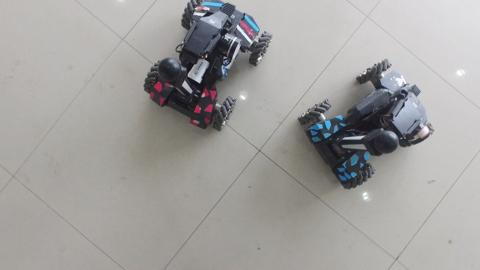chariot: (292, 56, 443, 195), (136, 1, 279, 139)
